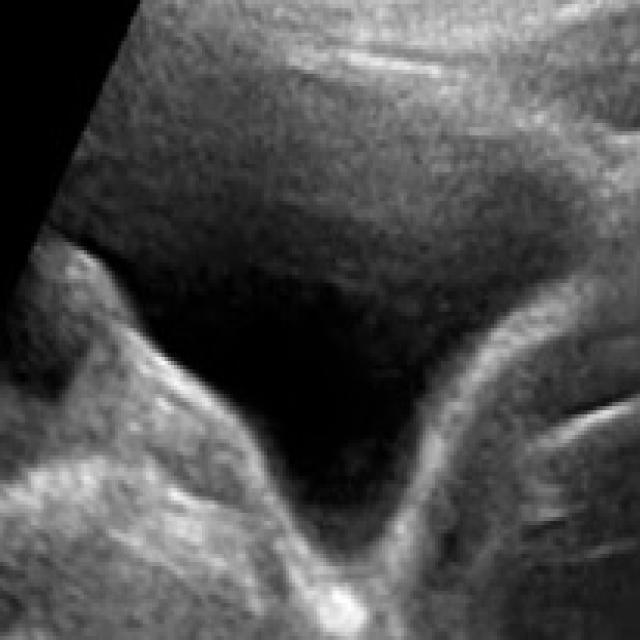bladder: (43, 4, 631, 618)
